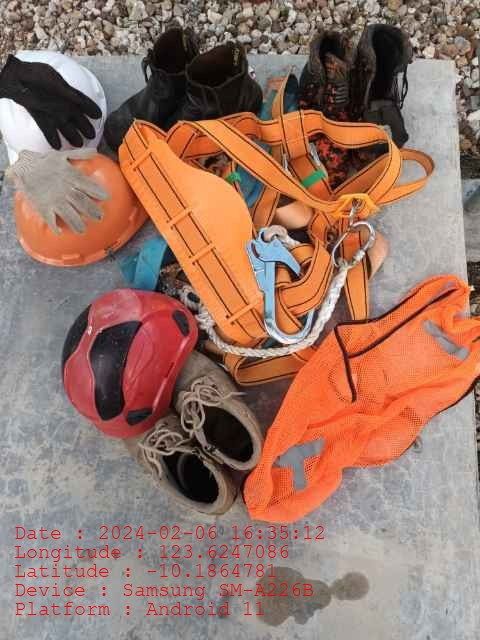HELM: (62, 287, 180, 434)
SARUNG_TANGAN: (1, 55, 102, 150), (4, 147, 108, 235)
